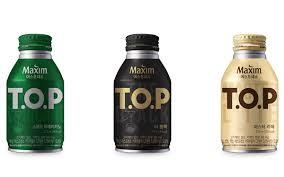TOP_black: (108, 25, 174, 155)
